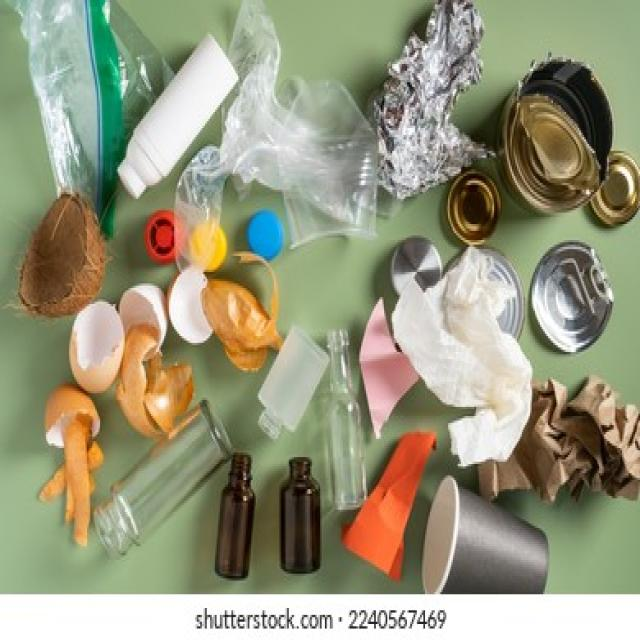glass: (221, 468, 325, 572)
metal: (515, 60, 596, 217), (527, 242, 610, 350)
paper: (522, 407, 614, 494), (425, 313, 494, 398)
plastic: (54, 32, 181, 176), (435, 487, 512, 592)
